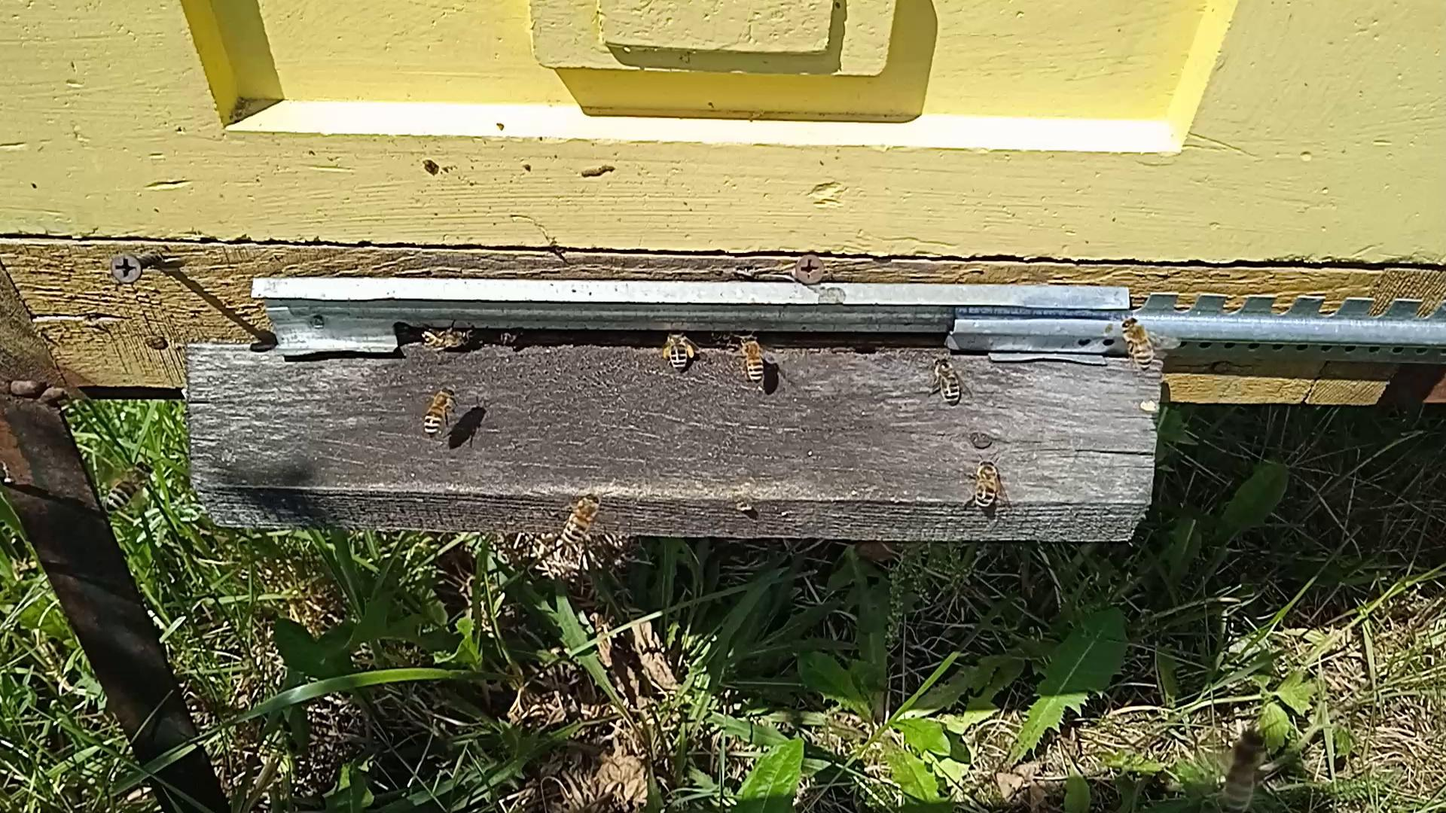worker-bee: (1222, 731, 1268, 812), (105, 461, 151, 510), (561, 492, 602, 544), (1118, 315, 1155, 371), (421, 384, 459, 437), (972, 458, 1002, 511), (930, 357, 962, 406), (737, 333, 767, 385), (661, 330, 697, 373), (418, 327, 474, 350), (496, 329, 524, 346), (710, 331, 737, 345)
